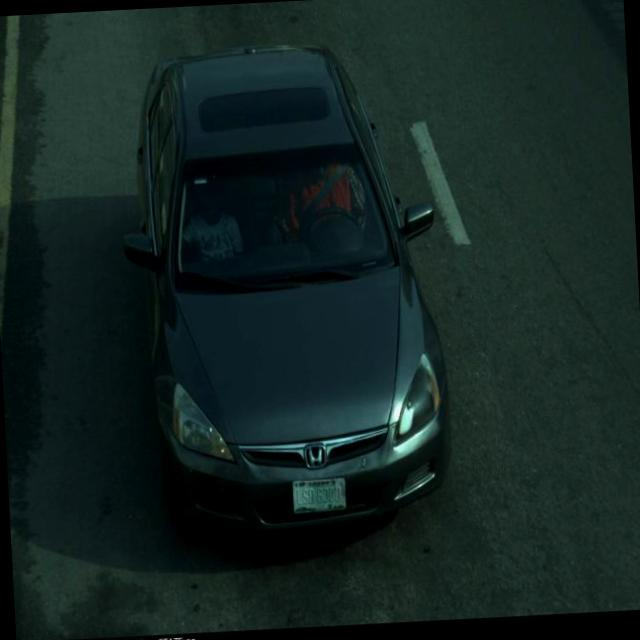person_with_seatbelt: (268, 140, 375, 282)
